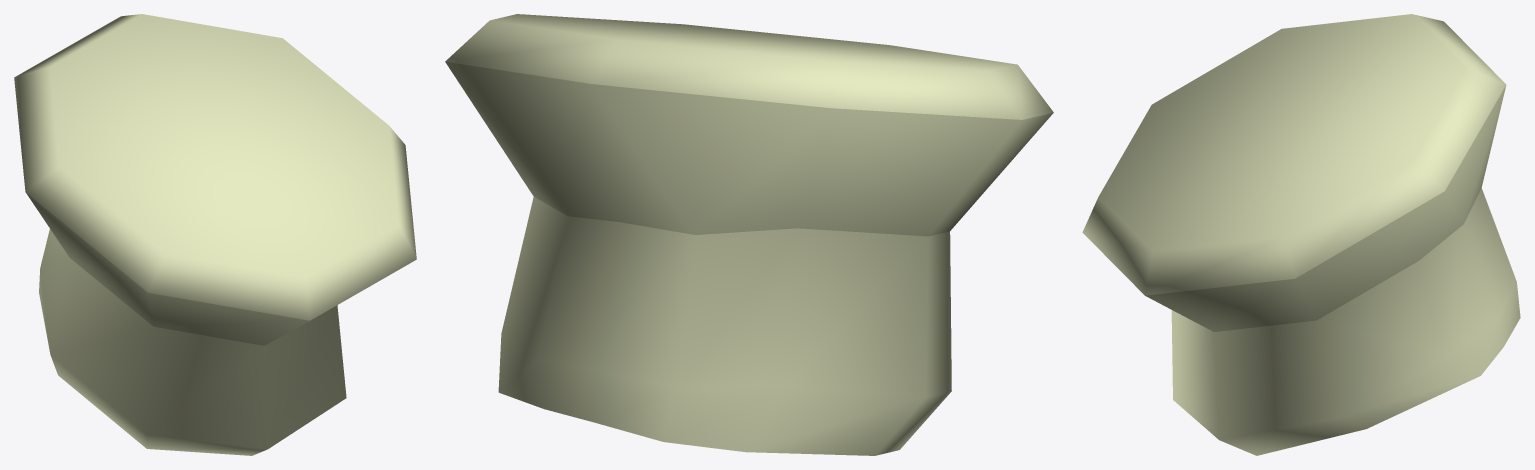
File: ChefHat.gltf
3 renders of one model, left to right at view 1: azimuth 30°, elevation 25°; view 2: azimuth 150°, elevation 25°; view 3: azimuth 270°, elevation 25°, orthographic. The views are drawn at different scales.
Visible parts, largest first — view 1: Cylinder; view 2: Cylinder; view 3: Cylinder.
Boxes of the visible parts, x1,y1,x2,y2 form: Cylinder: (14, 14, 416, 455); Cylinder: (445, 14, 1053, 455); Cylinder: (1082, 14, 1520, 455).
Size of the model in its own units: 0.3963 by 0.3494 by 0.3818.
Materials: 1 (1 with a texture image).
